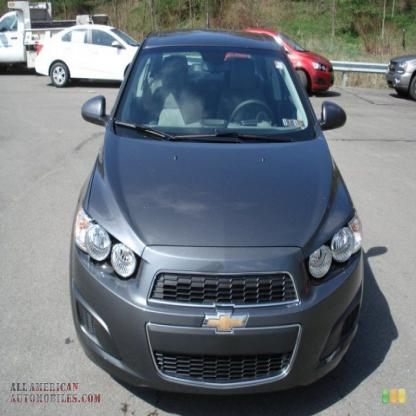Vehicle: (67, 36, 364, 415)
